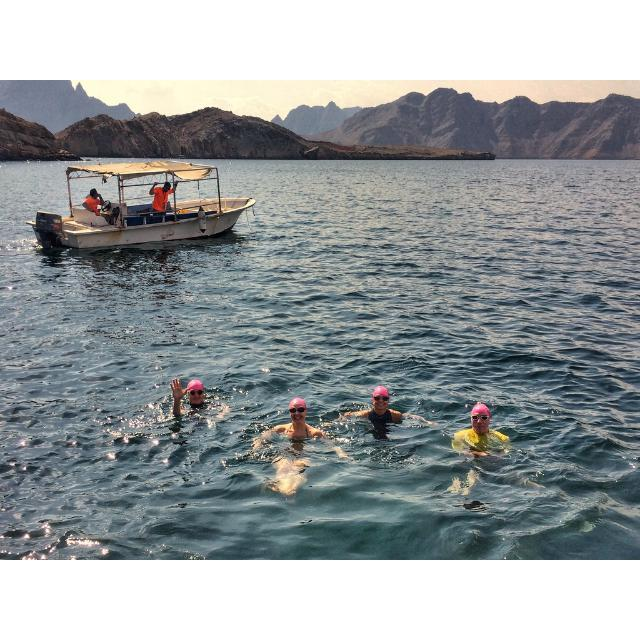human: (252, 399, 346, 459), (450, 404, 511, 459), (341, 381, 407, 431), (168, 375, 213, 420)
